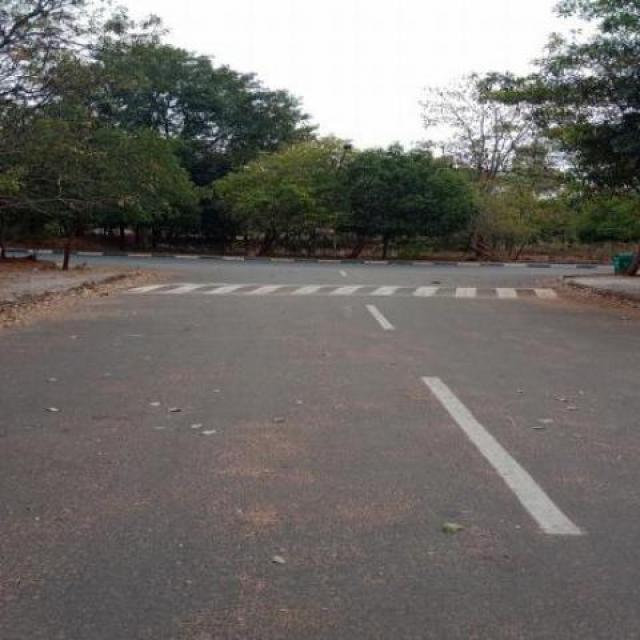Speed Bump: (110, 280, 594, 299)
